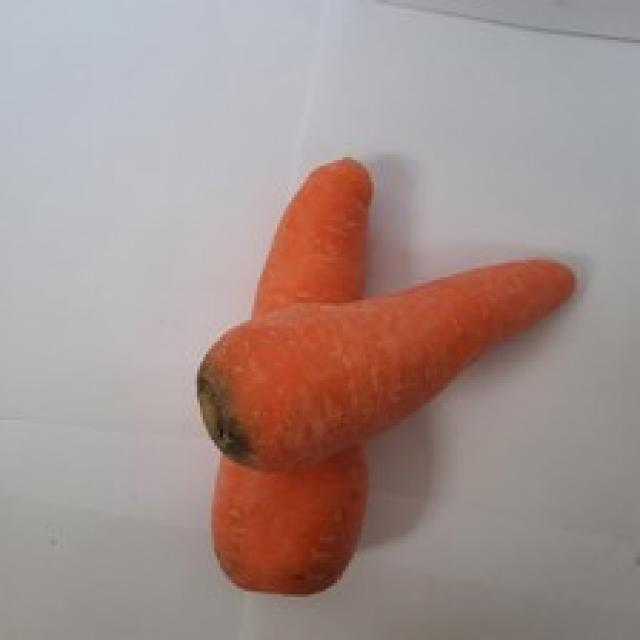carrot: (202, 255, 578, 460), (218, 158, 382, 597)
